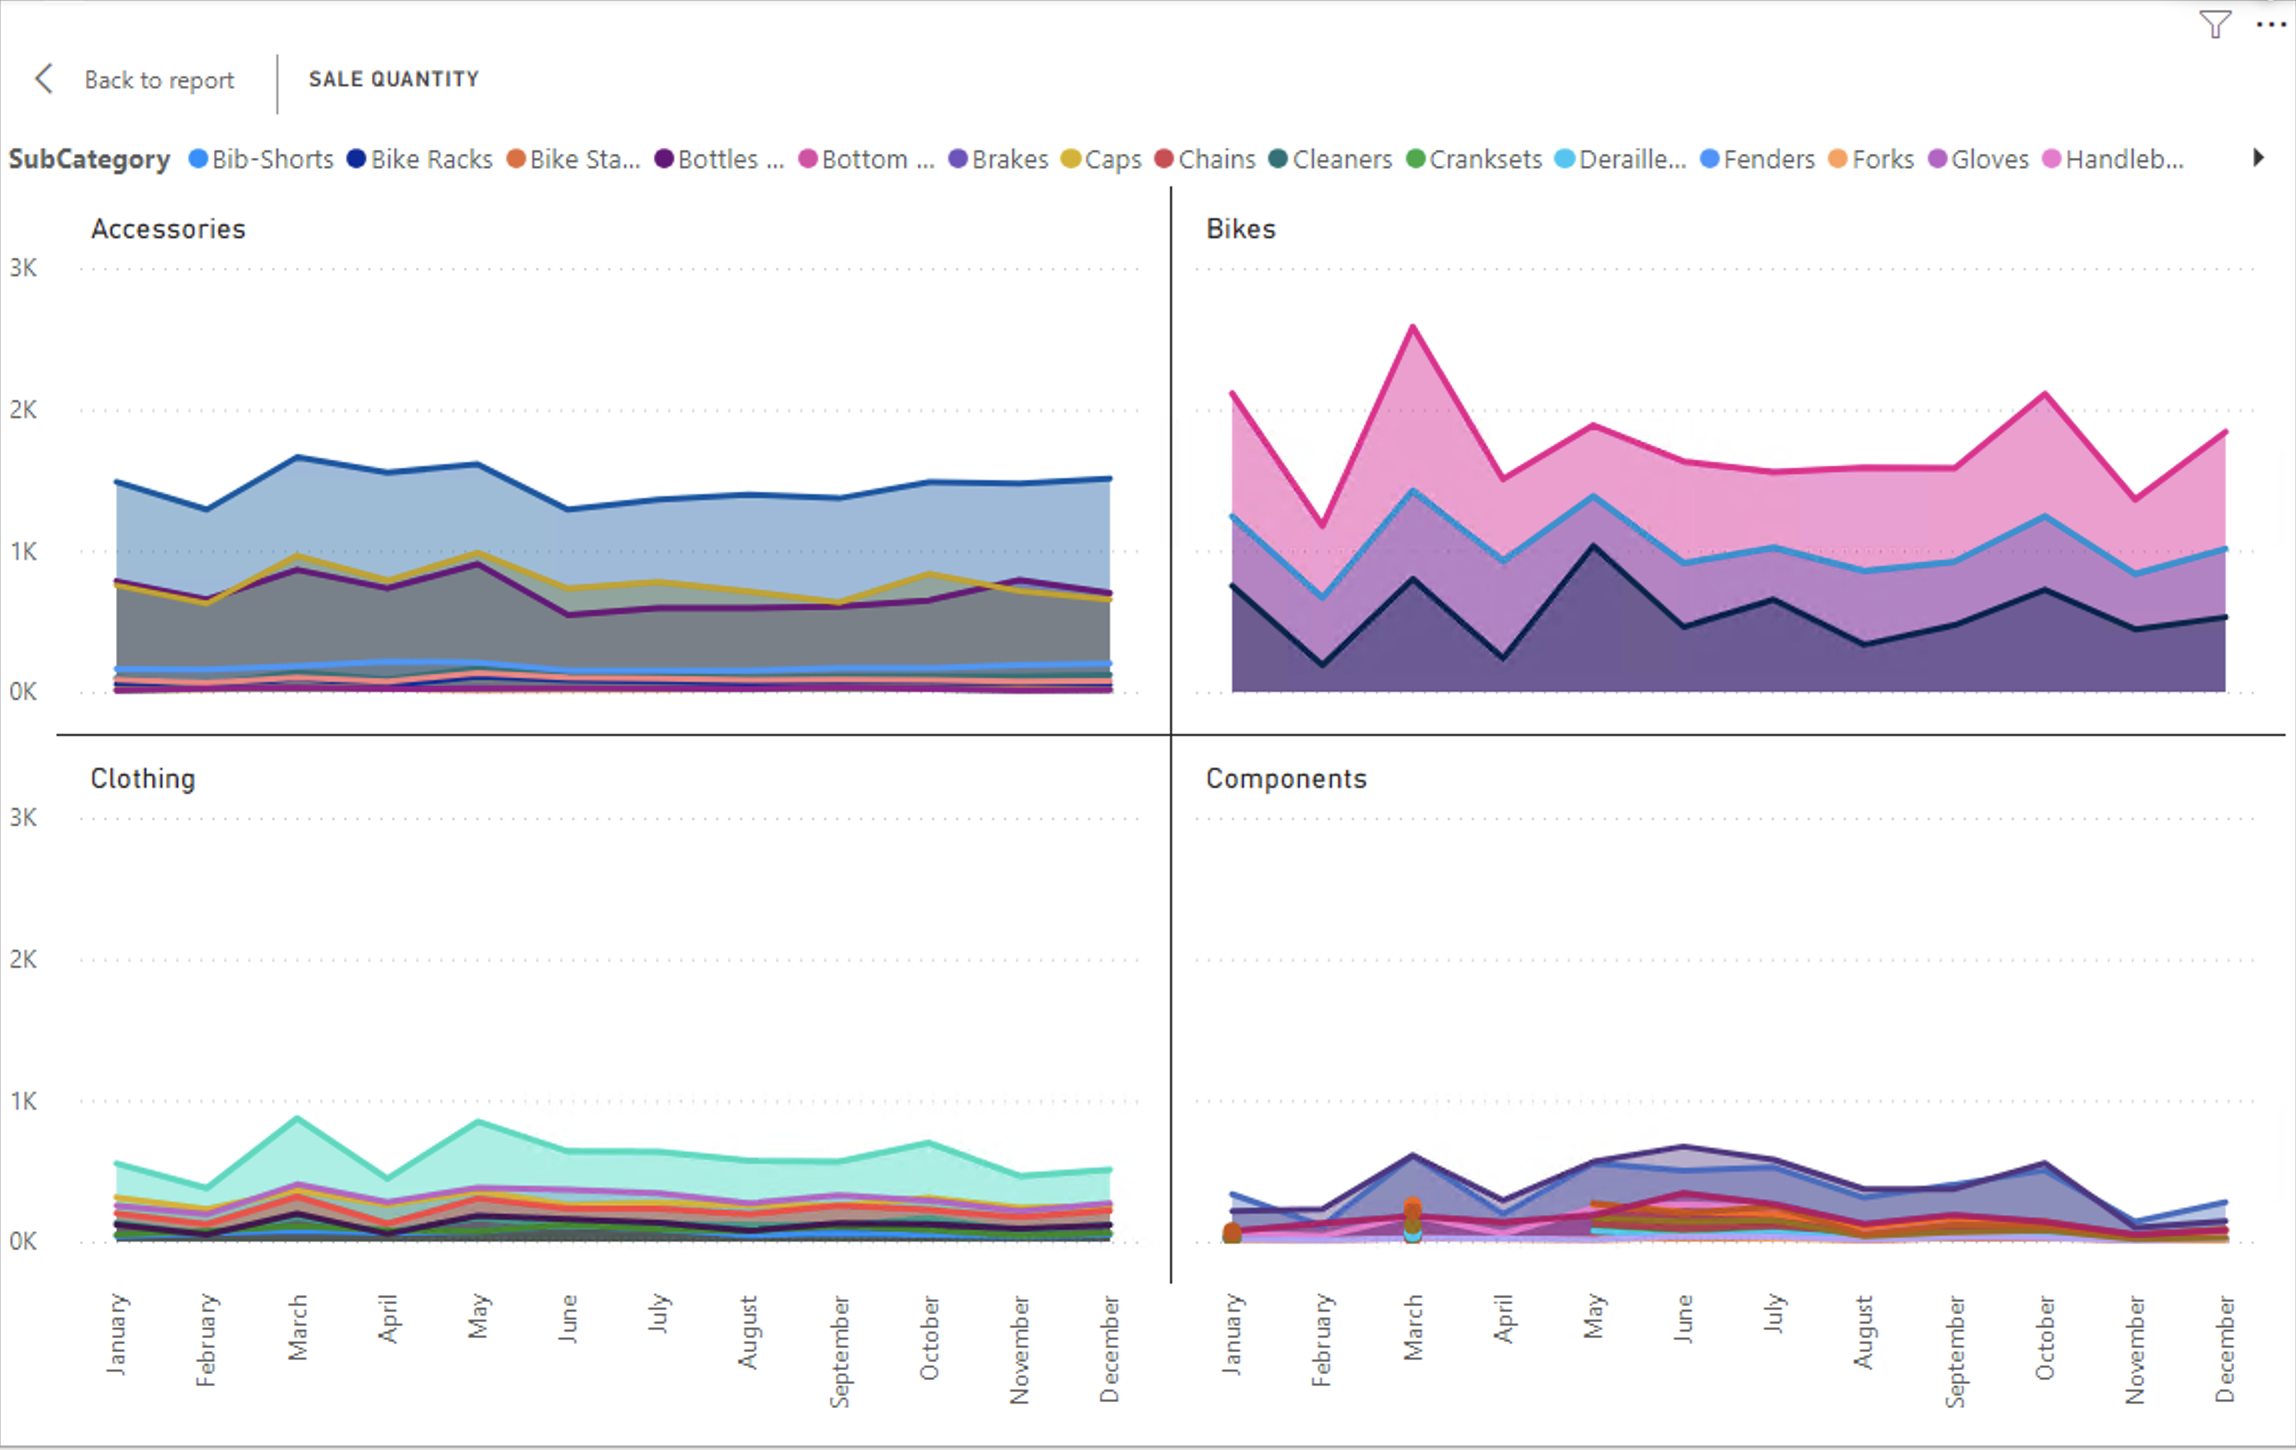

The page's visual inventory and layout, read from the dashboard file:
{"tool":"powerbi","page":{"name":"Subcategory Breakdown","canvas":[1280,720],"ordinal":4},"visuals":[{"type":"areaChart","title":"Sale Quantity","fields":{"Category":["Data.SaleDate.Variation.Date Hierarchy.Month"],"Rows":["Data.CategoryName"],"Series":["Data.SubCategoryName"],"Y":["CountNonNull(Data.TotalSale)"]},"box":[0,0,739.1,452.3],"z":0},{"type":"slicer","fields":{"Values":["Data.SaleDate.Variation.Date Hierarchy.Year"]},"box":[815.9,0,243.5,79],"z":1}]}

Visuals, with their boxes on the page's 1280x720 design canvas (x1, y1, x2, y2). These are canvas units, not pixel positions in the 2296x1450 screenshot, which may show the page scaled, cropped or inside an application window:
"Sale Quantity" areaChart: [0, 0, 739, 452]
slicer - Data.SaleDate.Variation.Date Hierarchy.Year: [816, 0, 1059, 79]
